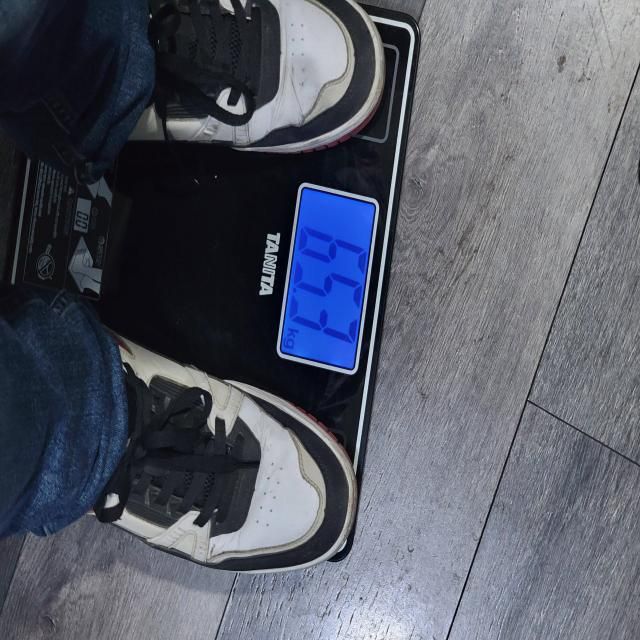ws: (274, 184, 379, 377)
